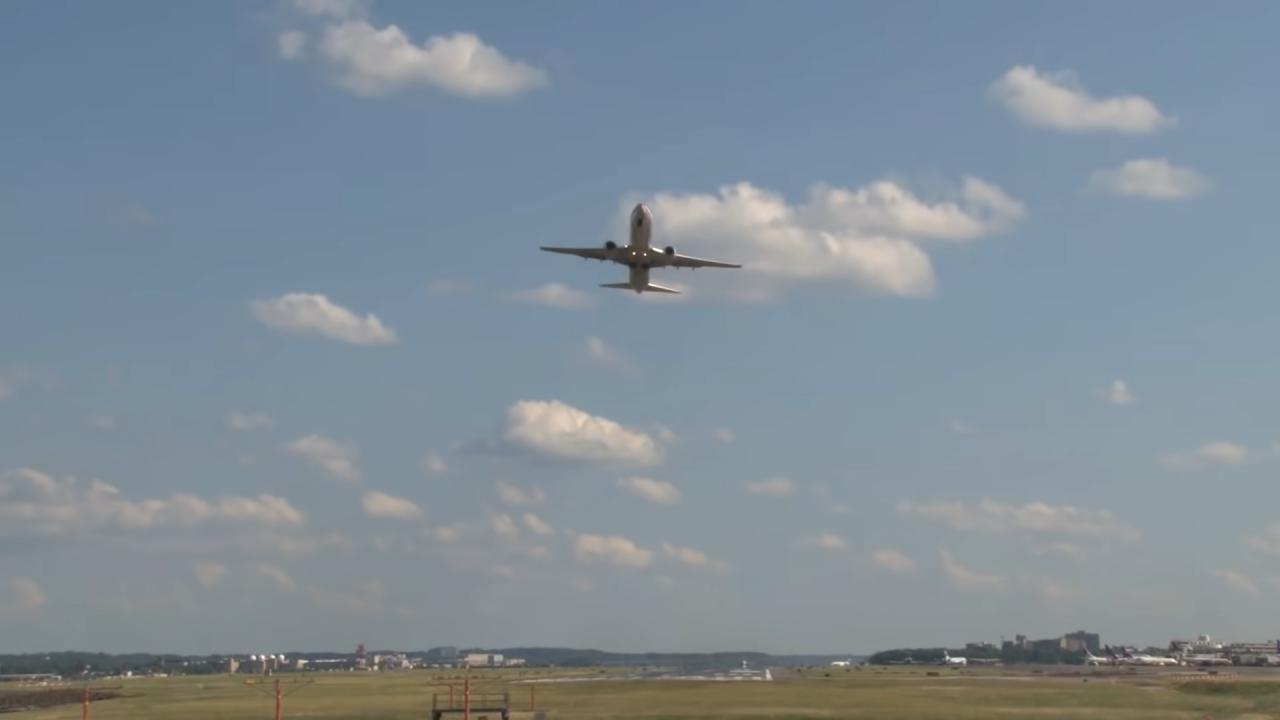Airplane: (531, 194, 752, 306)
